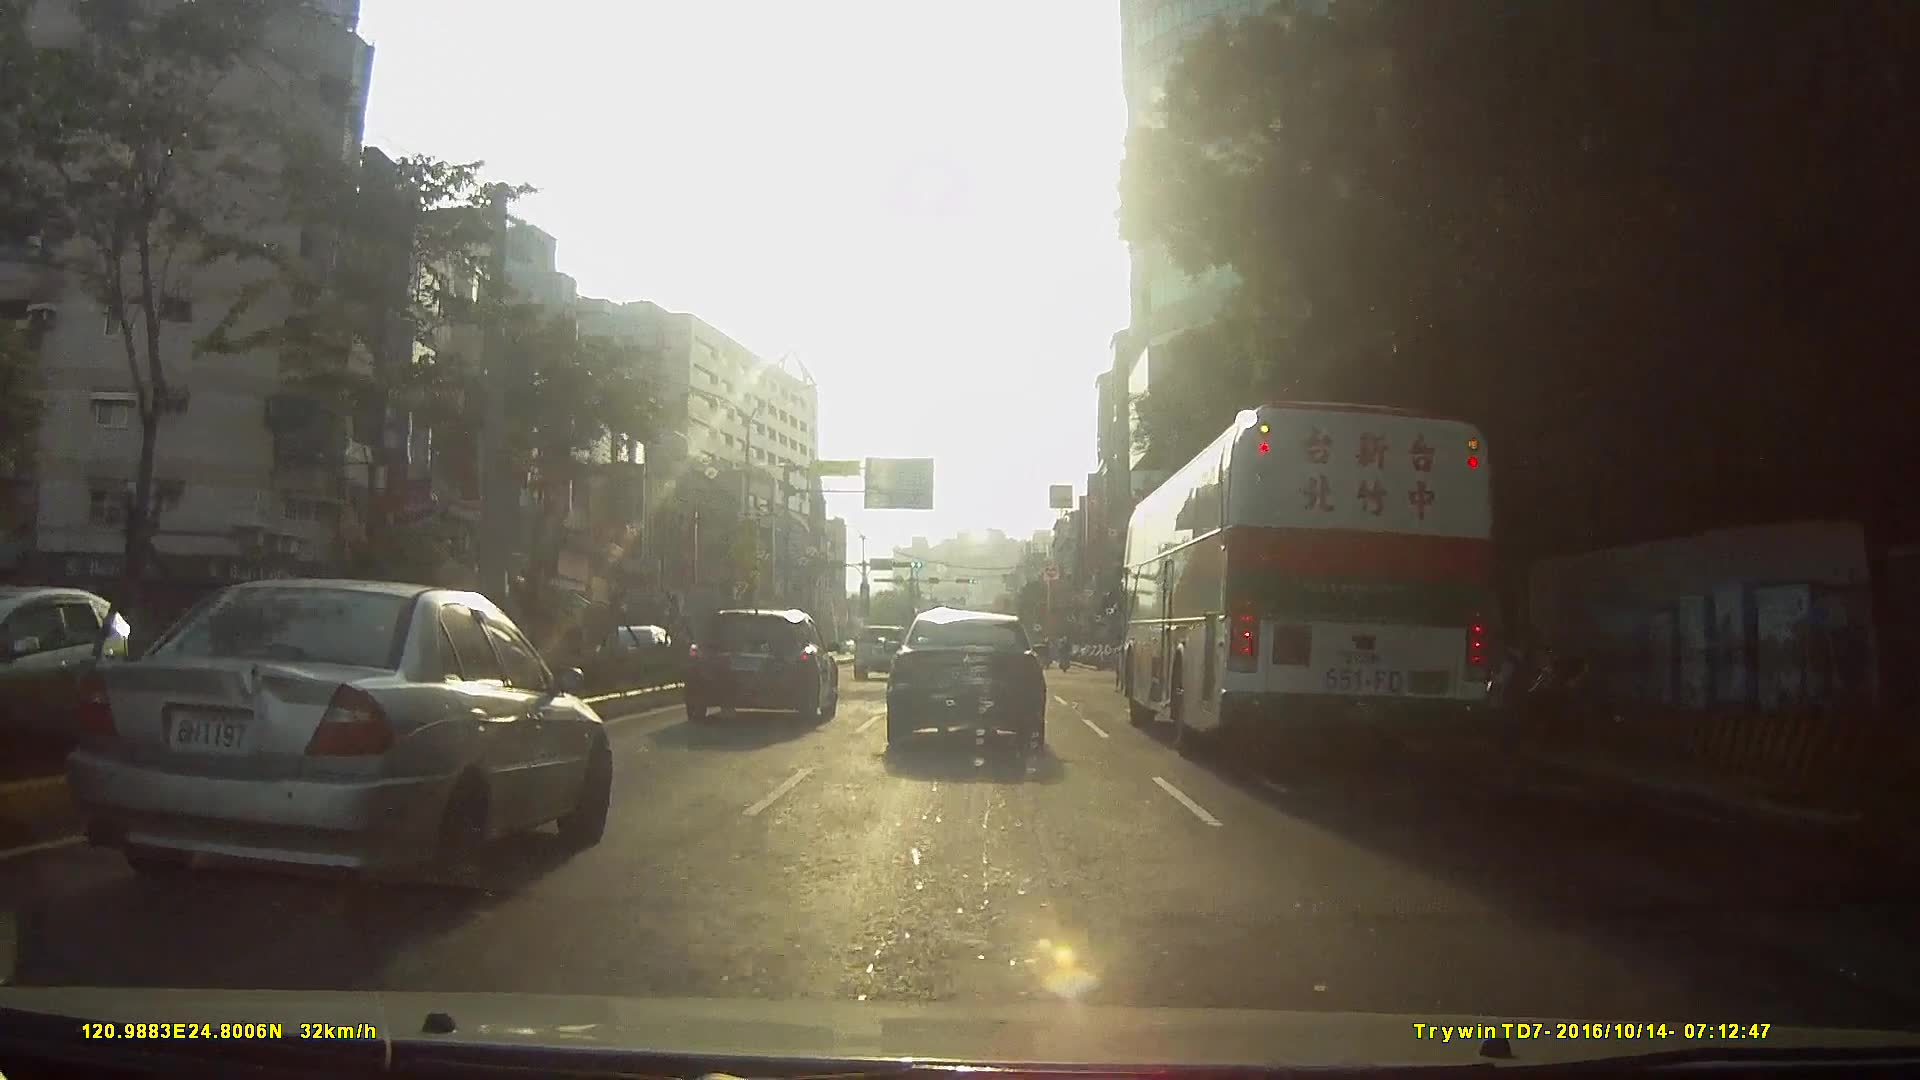vehicle: (61, 574, 615, 916), (1112, 364, 1564, 771), (884, 609, 1048, 756), (3, 585, 142, 746), (683, 607, 839, 725), (855, 624, 910, 682)
